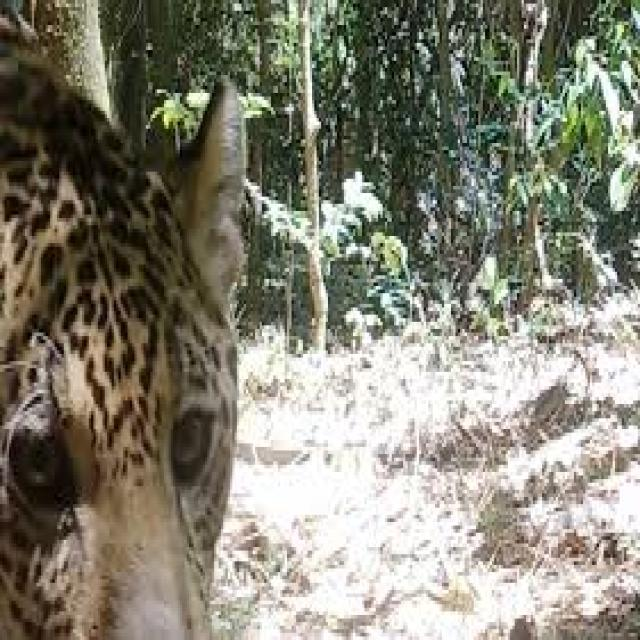Jaguar: (0, 18, 248, 640)
